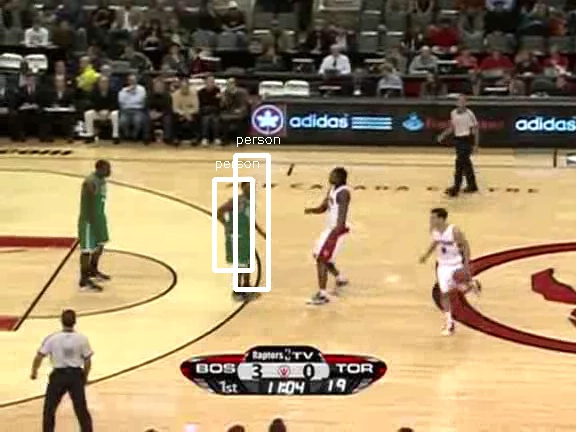person: (227, 192, 261, 273), (226, 192, 260, 273), (228, 192, 262, 273), (227, 191, 261, 272), (227, 193, 261, 274)
target_negative: (207, 134, 504, 372), (100, 54, 246, 428), (338, 70, 481, 392), (359, 260, 547, 360), (316, 81, 553, 109), (476, 63, 508, 91)
